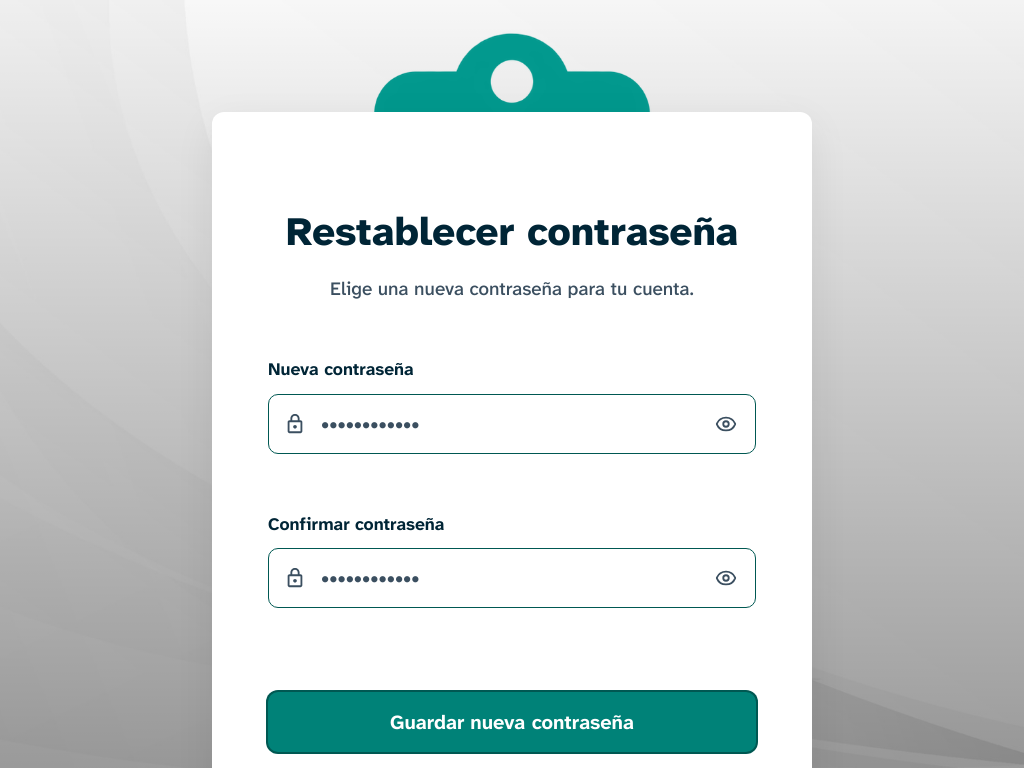
Scenario: ResetPasswordPage › usa el token del enlace y confirma el cambio
Type "new-secret-123" into the password field labelled "Nueva contraseña" at (512, 424), box left=268, top=394, right=756, bottom=454
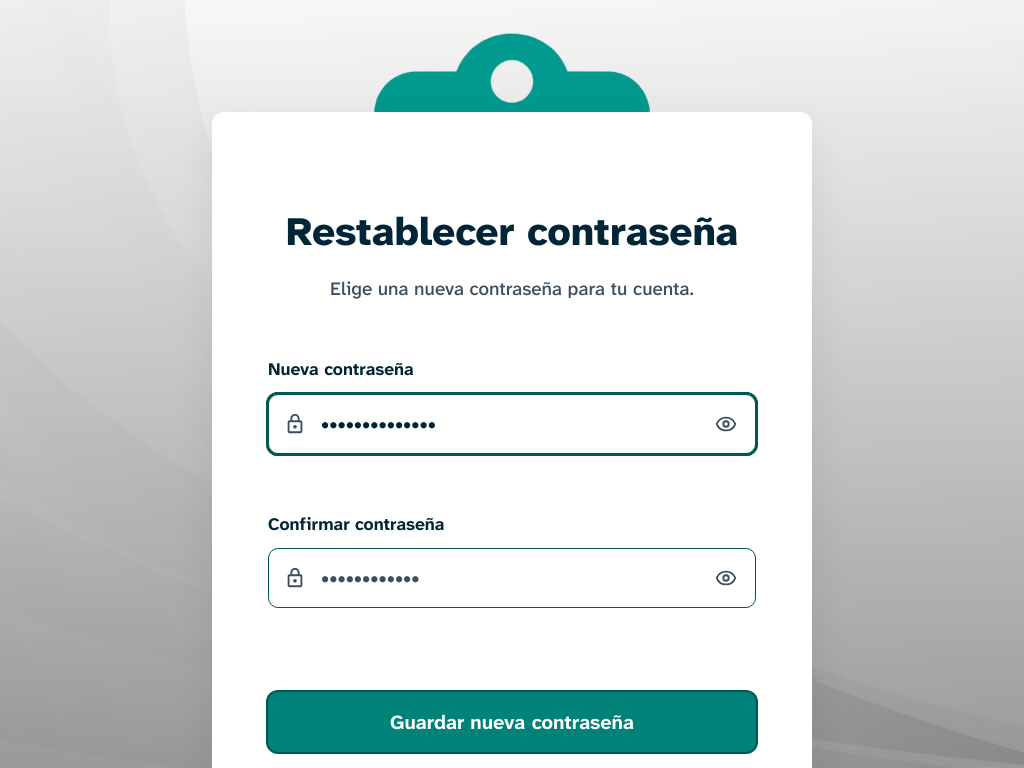
Type "new-secret-123" into the password field labelled "Confirmar contraseña" at (512, 578), box left=268, top=548, right=756, bottom=608
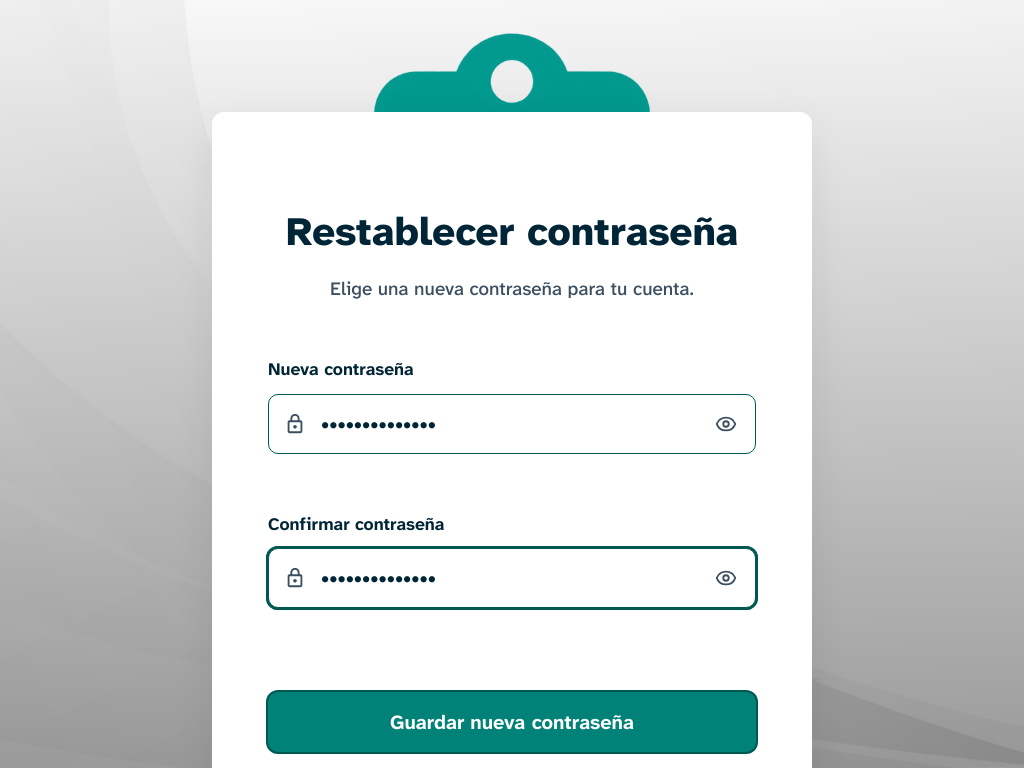
Click the button "Guardar nueva contraseña" at (512, 722), box left=268, top=692, right=756, bottom=752
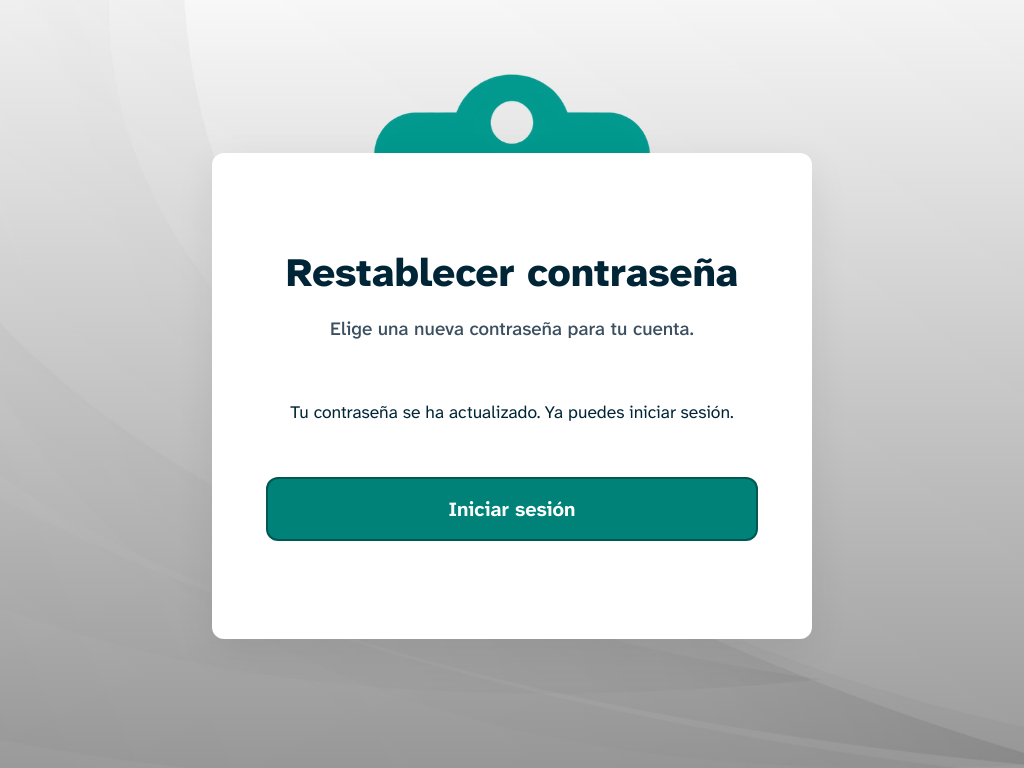
Check: the message shows "Tu contraseña se ha actualizado", box left=290, top=401, right=734, bottom=424
